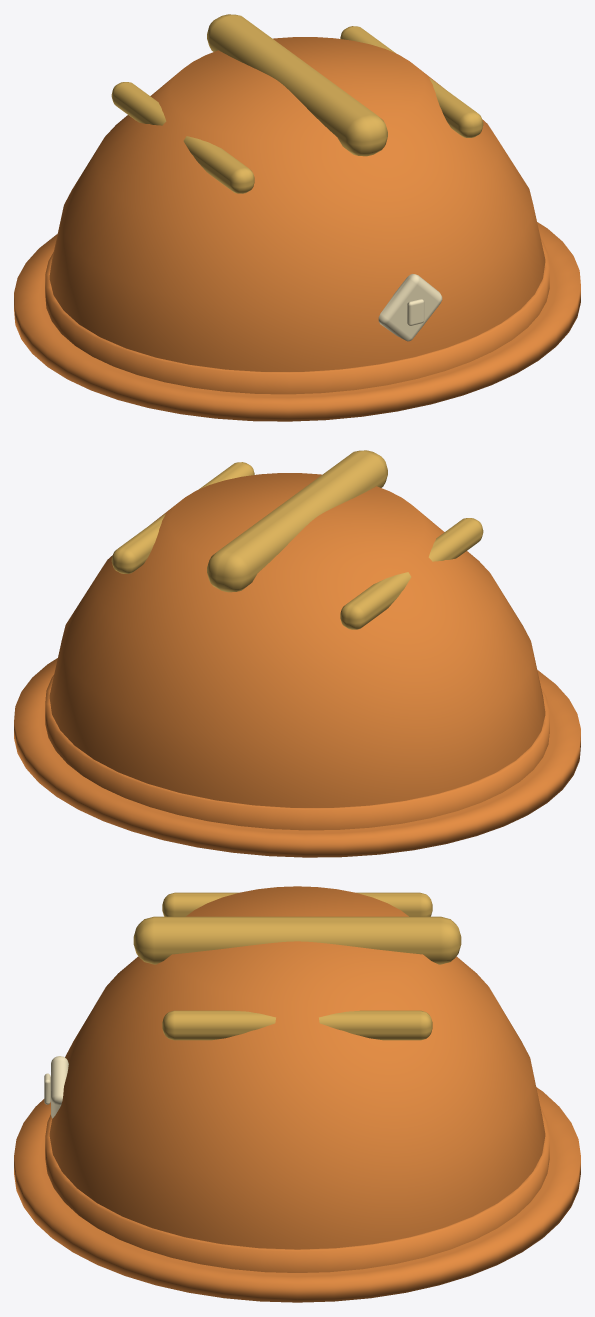
File: 11-shift-hardhat.glb
3 renders of one model, top to bottom at view 1: azimuth 30°, elevation 25°; view 2: azimuth 150°, elevation 25°; view 3: azimuth 270°, elevation 25°, orthographic. The views are drawn at different scales.
Visible parts, largest first — view 1: Hat11_Crown1, Hat11_Brim2, Hat11_Band6, Hat11_TopRidge3, Hat11_ShellRib4, Hat11_Badge7, Hat11_ShellRib5; view 2: Hat11_Crown1, Hat11_Brim2, Hat11_Band6, Hat11_TopRidge3, Hat11_ShellRib4, Hat11_ShellRib5; view 3: Hat11_Crown1, Hat11_Brim2, Hat11_Band6, Hat11_TopRidge3, Hat11_ShellRib5, Hat11_ShellRib4, Hat11_Badge7.
Boxes of the visible parts, bbox=[...] form: Hat11_Crown1: bbox=[49, 37, 545, 371]; Hat11_Brim2: bbox=[14, 222, 580, 421]; Hat11_Band6: bbox=[45, 239, 549, 394]; Hat11_TopRidge3: bbox=[207, 14, 387, 156]; Hat11_ShellRib4: bbox=[111, 82, 254, 193]; Hat11_Badge7: bbox=[378, 274, 442, 341]; Hat11_ShellRib5: bbox=[340, 26, 483, 137]; Hat11_Crown1: bbox=[49, 473, 545, 807]; Hat11_Brim2: bbox=[14, 658, 580, 857]; Hat11_Band6: bbox=[45, 675, 549, 830]; Hat11_TopRidge3: bbox=[207, 450, 387, 592]; Hat11_ShellRib4: bbox=[340, 518, 483, 629]; Hat11_ShellRib5: bbox=[111, 462, 254, 573]; Hat11_Crown1: bbox=[49, 886, 545, 1249]; Hat11_Brim2: bbox=[14, 1087, 580, 1302]; Hat11_Band6: bbox=[45, 1107, 549, 1272]; Hat11_TopRidge3: bbox=[133, 916, 461, 964]; Hat11_ShellRib5: bbox=[162, 1010, 432, 1040]; Hat11_ShellRib4: bbox=[162, 892, 432, 916]; Hat11_Badge7: bbox=[51, 1056, 68, 1118].
Bounding box in the file's own units: 0.744 × 0.3525 × 0.6919.
